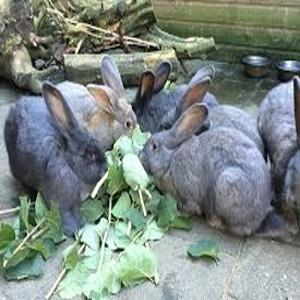rabbit: (7, 57, 298, 238)
